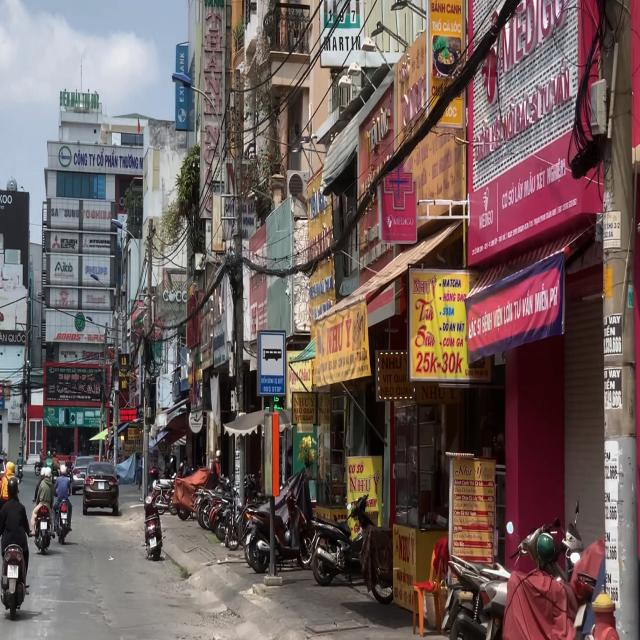Ben xe buyt: (257, 326, 287, 398)
